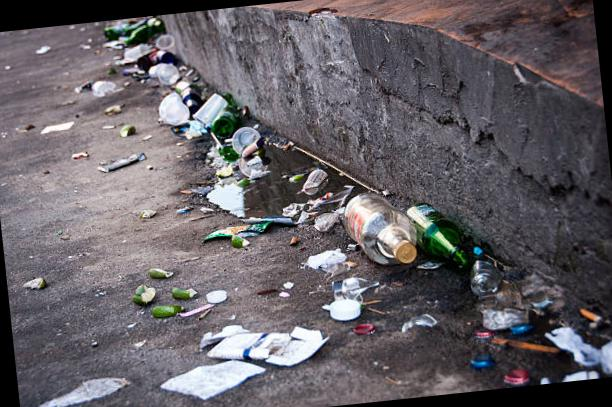trash: (178, 88, 278, 180), (334, 181, 427, 265), (156, 76, 250, 155), (476, 267, 584, 335), (138, 59, 226, 139), (208, 316, 335, 368), (415, 189, 487, 270), (120, 41, 204, 106), (175, 351, 262, 406), (103, 22, 178, 85), (47, 363, 140, 407), (216, 210, 292, 258), (90, 14, 164, 62), (206, 156, 263, 216), (466, 240, 516, 298), (320, 264, 370, 310), (281, 189, 343, 223), (188, 316, 244, 353), (558, 322, 605, 362), (323, 288, 368, 328), (302, 242, 350, 276), (38, 111, 86, 144), (398, 308, 444, 340), (302, 164, 334, 196), (102, 149, 148, 170), (165, 280, 200, 306), (88, 71, 118, 100), (160, 193, 194, 218), (465, 350, 499, 374), (596, 327, 612, 377), (506, 318, 534, 344), (131, 280, 160, 304), (474, 323, 504, 346), (348, 313, 375, 336), (579, 298, 601, 326), (560, 365, 598, 381), (144, 262, 167, 287), (154, 300, 183, 319), (504, 370, 536, 387), (104, 103, 132, 122), (23, 273, 50, 291), (116, 118, 138, 140), (66, 146, 93, 163), (253, 282, 278, 300), (202, 287, 227, 304), (139, 202, 160, 222), (273, 282, 293, 302), (32, 42, 54, 58), (74, 77, 94, 94), (276, 277, 297, 292), (103, 120, 121, 132)
